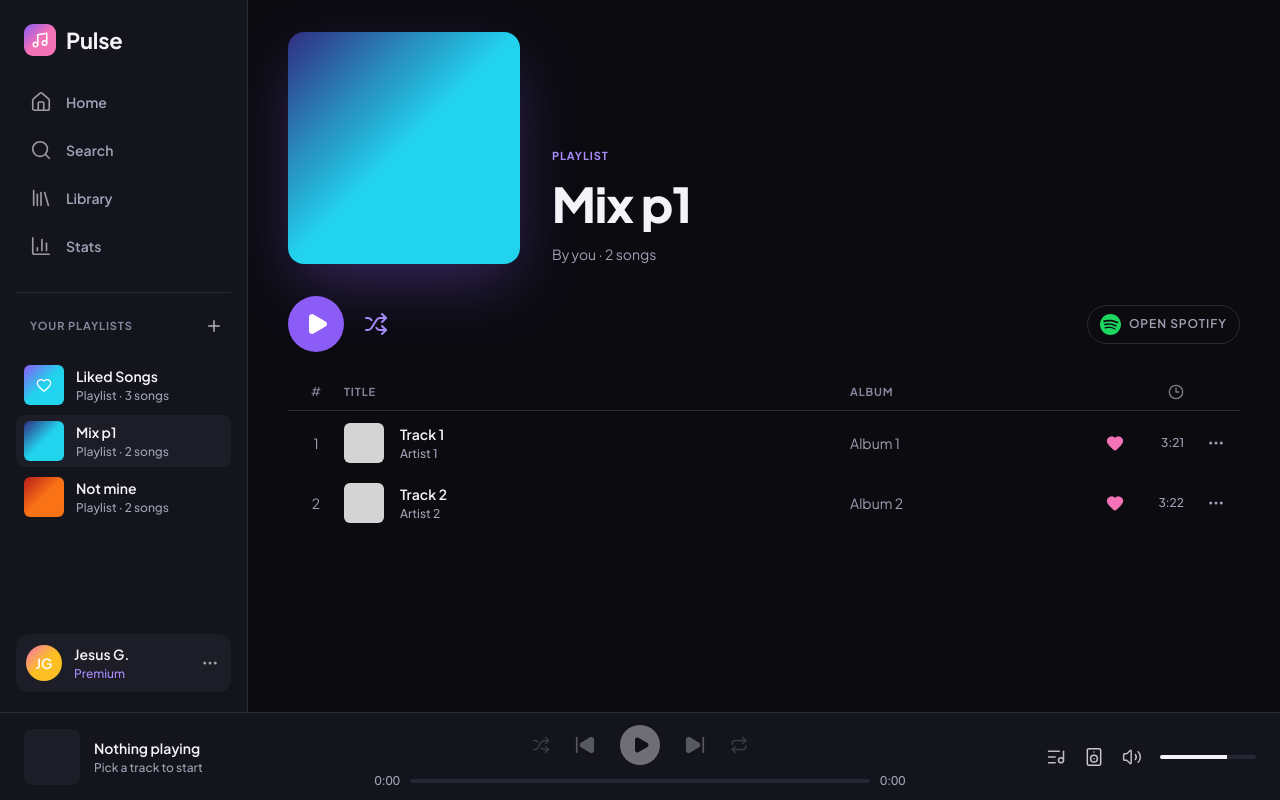
Test: PlaylistPage › removes a track optimistically with items in the request
Click the button named "More options for Track 1": (1216, 443) [1200,427,1232,459]
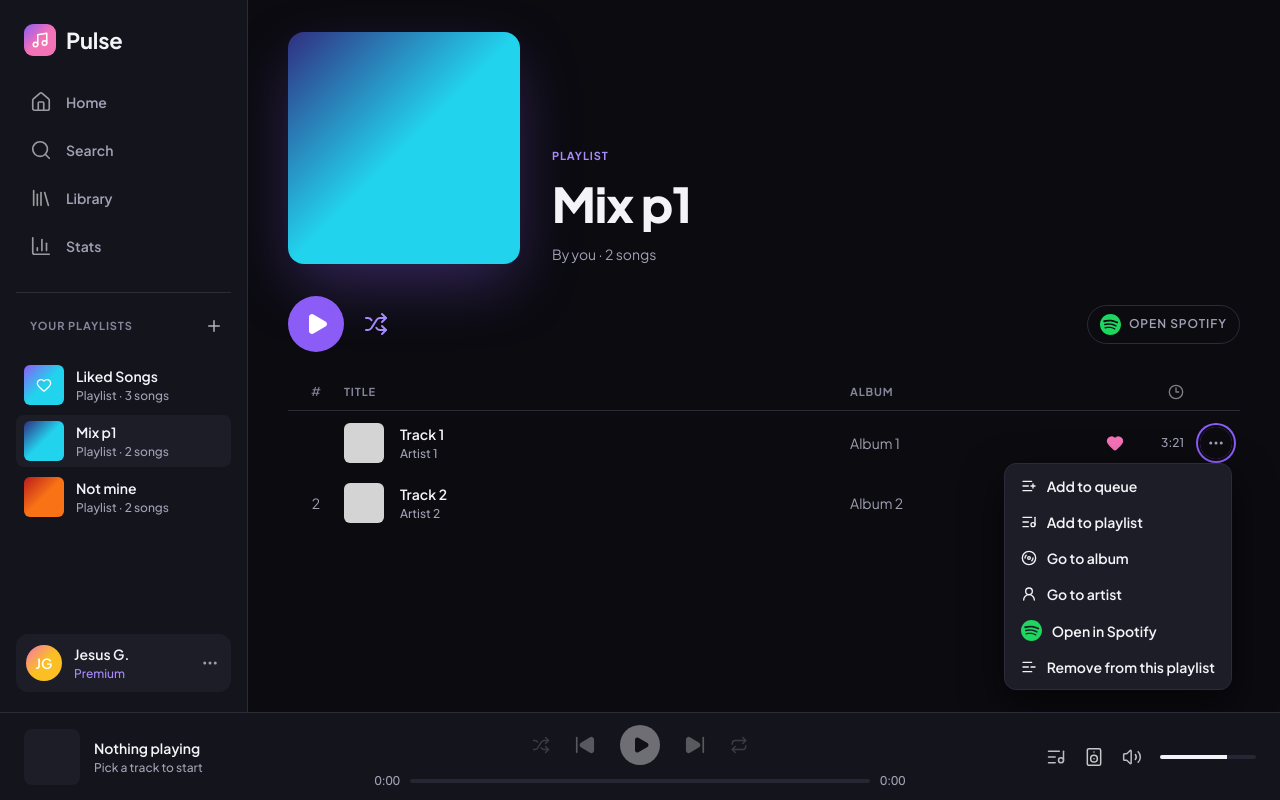
Click the menu item "Remove from this playlist": (1118, 667) [1009,649,1227,685]
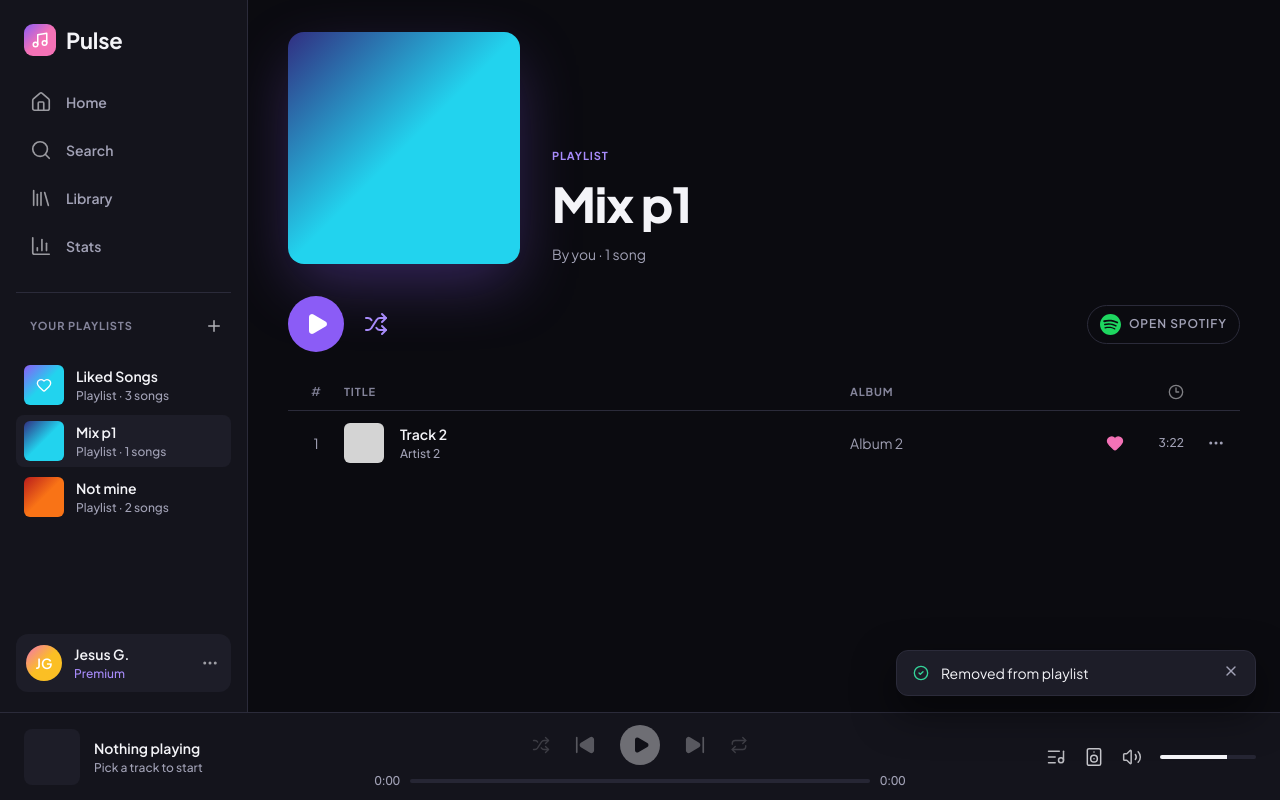
Check: the text "Track 1" is gone
Check: the text "By you · 1 song" is shown, box [552,245,646,263]
